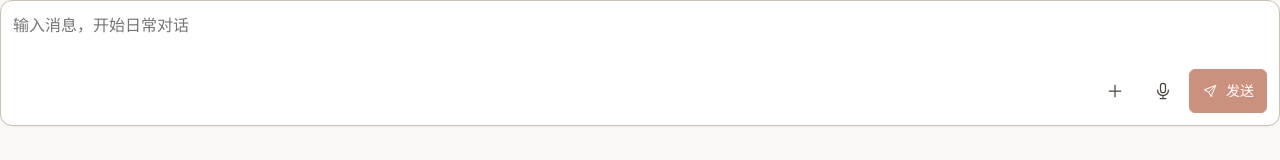
it: Composer 听写 › 取消录音不提交转写
The image size is (1280, 160).
Click the button named "开始听写" at (1163, 91), box [1141,69,1185,113]
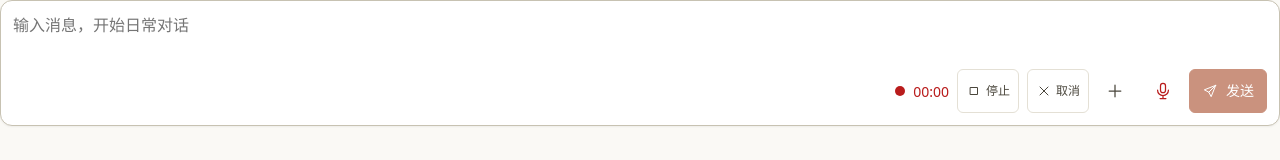
Now the button with aria-label "取消录音" is shown
Click the button with aria-label "取消录音" at (1058, 91), box [1027,69,1089,113]
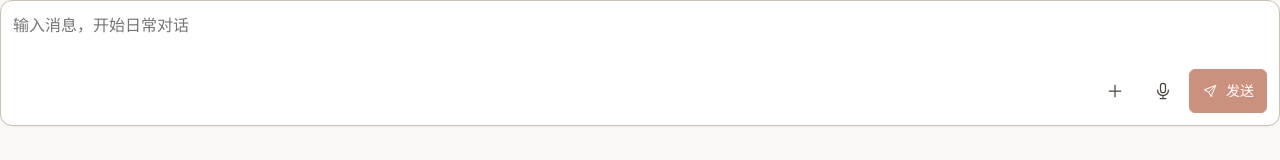
Now the button "停止录音并转写" is gone
